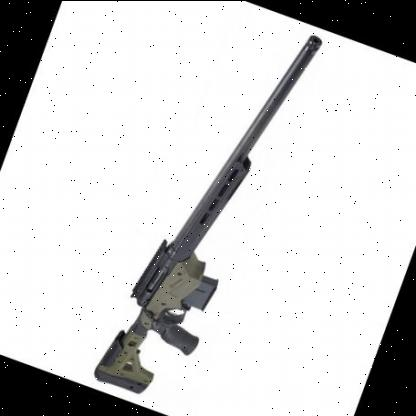rifle: (84, 0, 338, 416)
